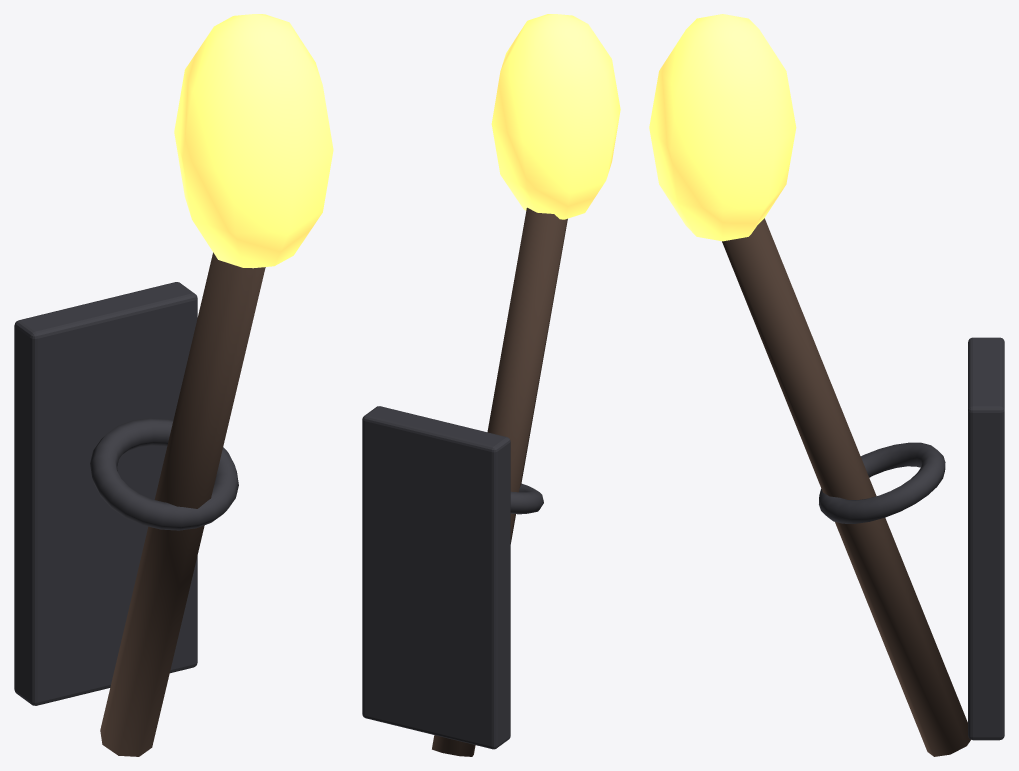
The model's file is sconce_torch_wall.glb.
The picture shows the model from 3 angles, left to right: view 1: azimuth 30°, elevation 25°; view 2: azimuth 150°, elevation 25°; view 3: azimuth 270°, elevation 25°; orthographic projection. The views are drawn at different scales.
Visible parts, largest first — view 1: GD_sconce_torch_wall__m0, GD_sconce_torch_wall__m2, GD_sconce_torch_wall__m1; view 2: GD_sconce_torch_wall__m0, GD_sconce_torch_wall__m2, GD_sconce_torch_wall__m1; view 3: GD_sconce_torch_wall__m1, GD_sconce_torch_wall__m2, GD_sconce_torch_wall__m0.
Part boxes in pixels (<box>): GD_sconce_torch_wall__m0: <box>14,282,238,705</box>; GD_sconce_torch_wall__m2: <box>174,14,333,268</box>; GD_sconce_torch_wall__m1: <box>100,252,265,756</box>; GD_sconce_torch_wall__m0: <box>362,406,543,749</box>; GD_sconce_torch_wall__m2: <box>491,14,620,219</box>; GD_sconce_torch_wall__m1: <box>432,207,567,756</box>; GD_sconce_torch_wall__m1: <box>722,218,970,756</box>; GD_sconce_torch_wall__m2: <box>649,14,796,241</box>; GD_sconce_torch_wall__m0: <box>819,337,1004,740</box>.
Size of the model in its own units: 0.14 by 0.6637 by 0.29.
